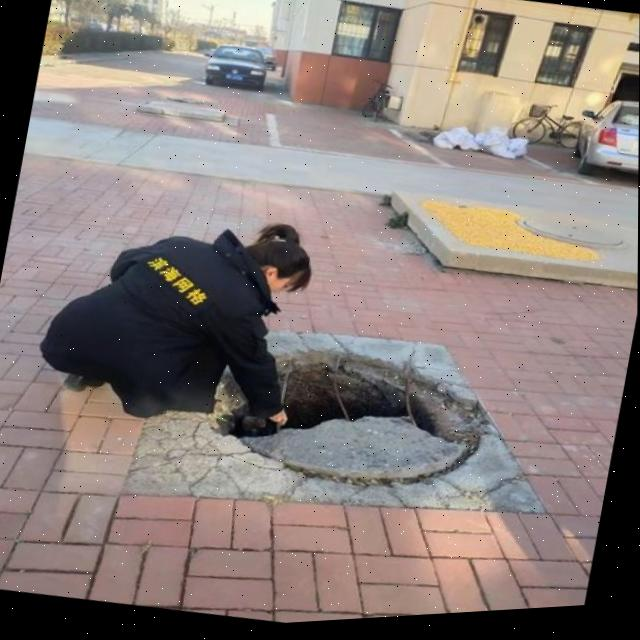manhole: (197, 309, 510, 518)
